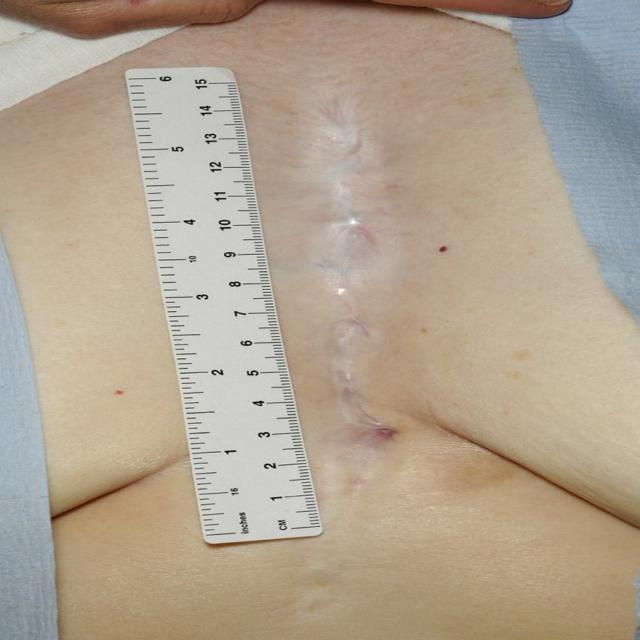wound: (292, 92, 434, 502)
